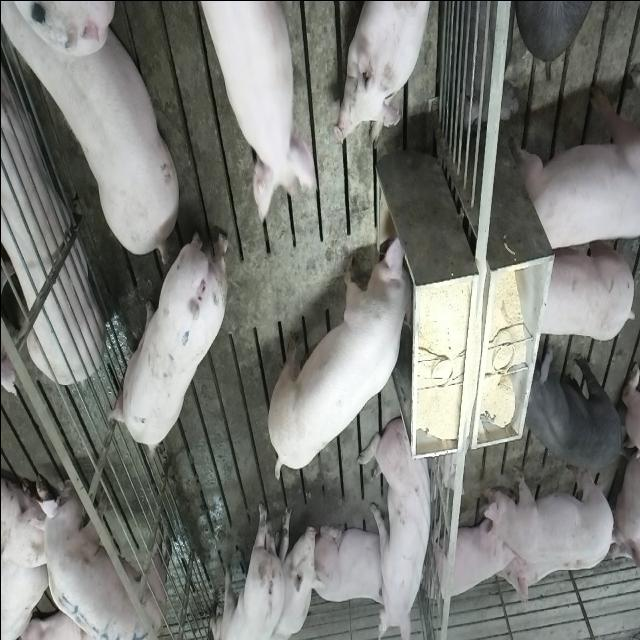Feeding: (270, 230, 420, 478)
Sitting: (362, 410, 436, 636), (255, 495, 318, 638)
Standing: (6, 5, 183, 266), (190, 0, 320, 221), (106, 220, 226, 451), (514, 69, 638, 256), (28, 485, 166, 640), (206, 497, 306, 639), (482, 458, 618, 562), (520, 356, 624, 474), (532, 237, 634, 344)
Sternal_lying: (0, 59, 100, 388), (336, 0, 434, 142), (429, 508, 512, 604), (312, 518, 389, 604)
